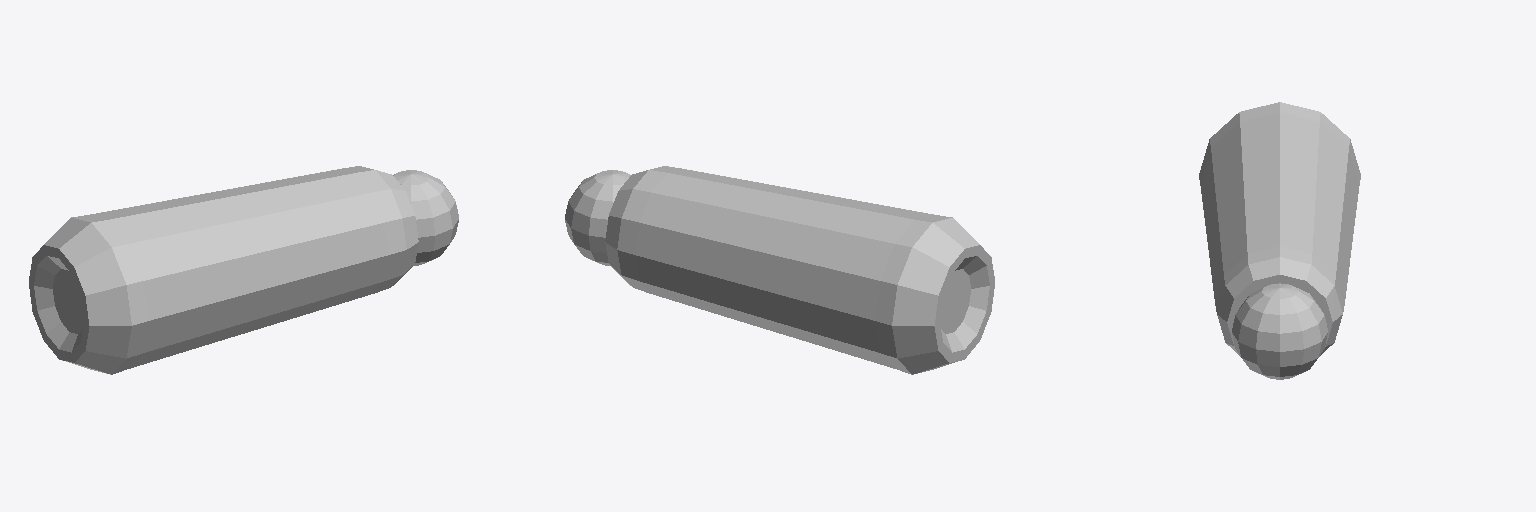
The model's file is arm1.obj.
3 views of the same model, side by side, from view 1: azimuth 30°, elevation 25°; view 2: azimuth 150°, elevation 25°; view 3: azimuth 270°, elevation 25° (orthographic).
Visible parts, largest first — view 1: dummy_hips3_dummy_belly_dummy_torso_dummy_lshoulder_dummy_l.000, dummy_hips3_dummy_belly_dummy_torso_dummy_lshoulder_dummy_l.002; view 2: dummy_hips3_dummy_belly_dummy_torso_dummy_lshoulder_dummy_l.000, dummy_hips3_dummy_belly_dummy_torso_dummy_lshoulder_dummy_l.002; view 3: dummy_hips3_dummy_belly_dummy_torso_dummy_lshoulder_dummy_l.000, dummy_hips3_dummy_belly_dummy_torso_dummy_lshoulder_dummy_l.002.
Part boxes in pixels (bbox=[...]): dummy_hips3_dummy_belly_dummy_torso_dummy_lshoulder_dummy_l.000: bbox=[29, 166, 418, 374]; dummy_hips3_dummy_belly_dummy_torso_dummy_lshoulder_dummy_l.002: bbox=[393, 170, 458, 265]; dummy_hips3_dummy_belly_dummy_torso_dummy_lshoulder_dummy_l.000: bbox=[605, 166, 994, 374]; dummy_hips3_dummy_belly_dummy_torso_dummy_lshoulder_dummy_l.002: bbox=[565, 170, 630, 265]; dummy_hips3_dummy_belly_dummy_torso_dummy_lshoulder_dummy_l.000: bbox=[1199, 102, 1360, 355]; dummy_hips3_dummy_belly_dummy_torso_dummy_lshoulder_dummy_l.002: bbox=[1232, 283, 1327, 379].
Bounding box in the file's own units: 27.5 × 9.82 × 9.82.